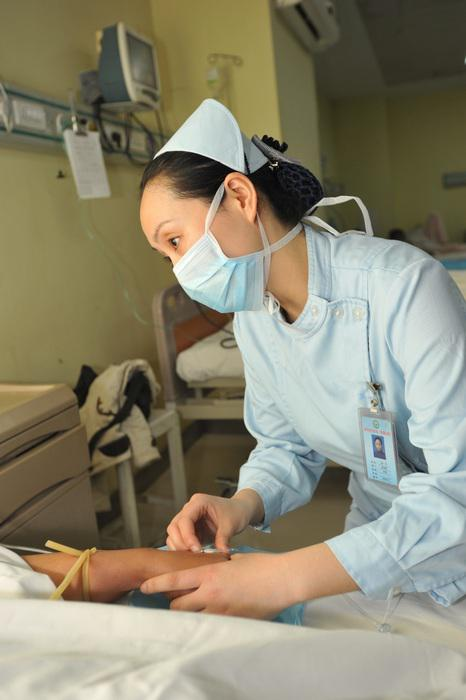OK: (156, 207, 268, 319)
